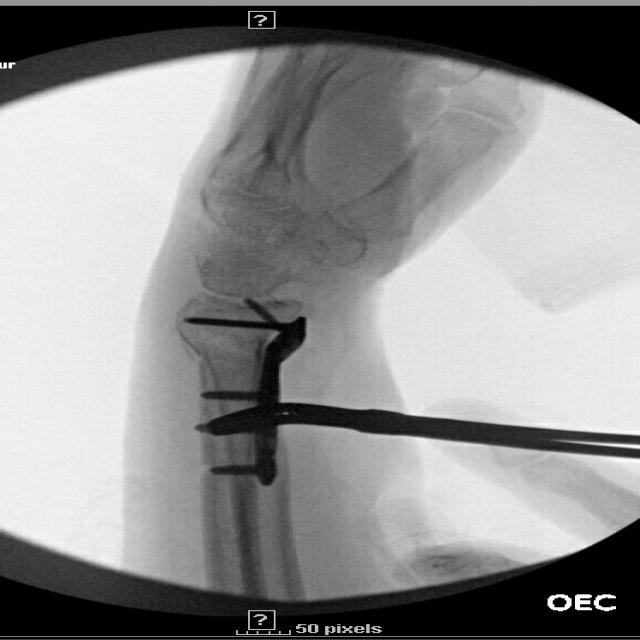x-ray: (169, 293, 322, 495)
